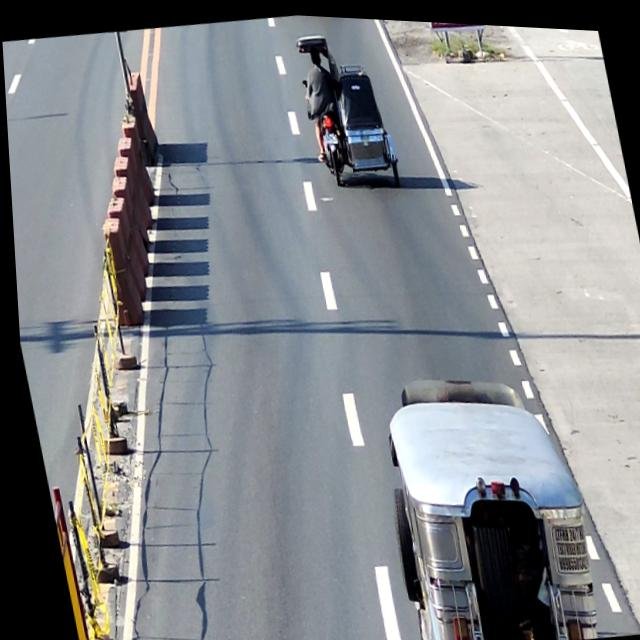Jeep: (358, 351, 603, 640)
License-Plate: (323, 128, 338, 143)
Tricycle: (293, 23, 402, 194)
